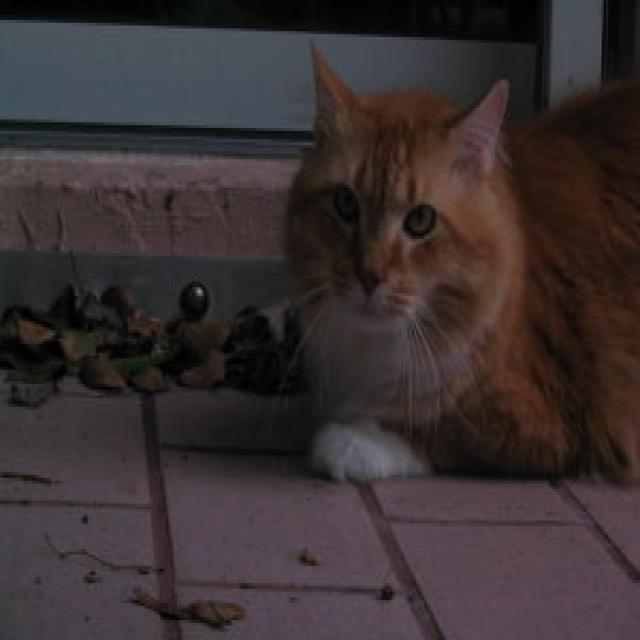Maine_Coon: (286, 40, 524, 422)
